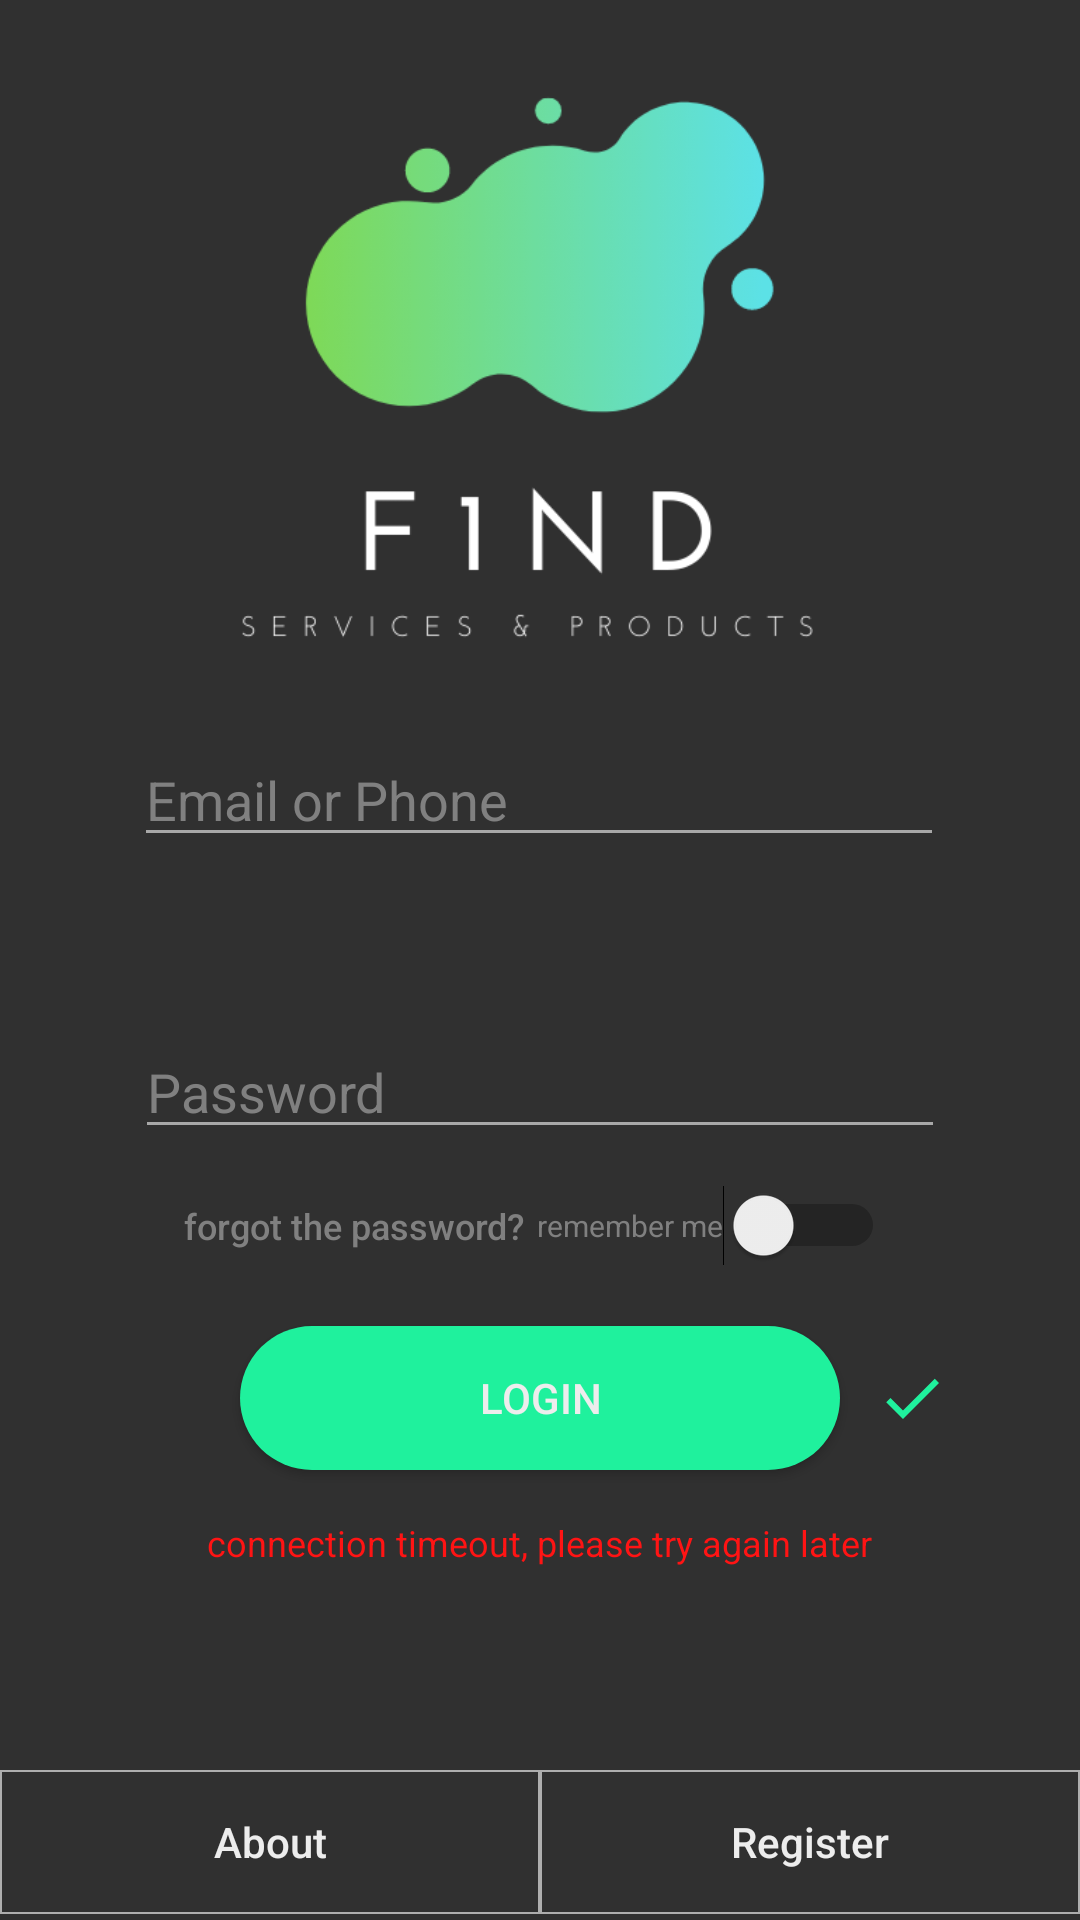

Point at icon controls on the screen. Image size 1080×1920, points as [x,y].
check: [912,1399]
